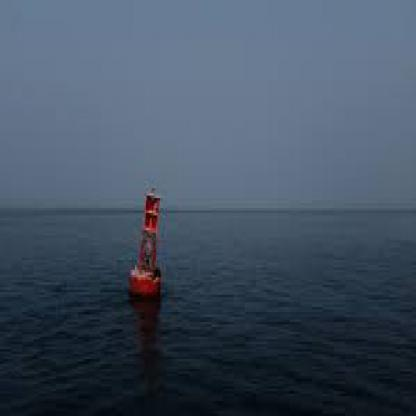buoy: (124, 180, 172, 304)
